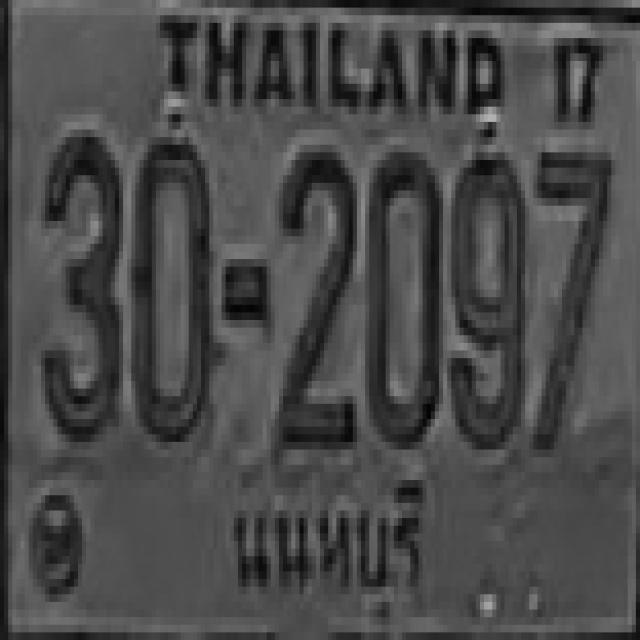0: (130, 130, 216, 434), (365, 145, 439, 442)
2: (275, 141, 353, 446)
3: (37, 130, 119, 434)
7: (532, 144, 614, 450)
9: (447, 145, 525, 442)
Nonthaburi: (222, 462, 428, 624)
